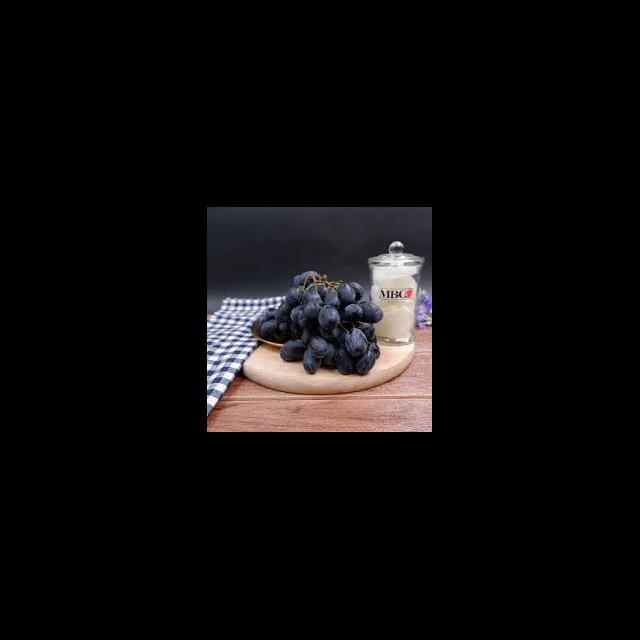grape: (256, 270, 384, 376)
